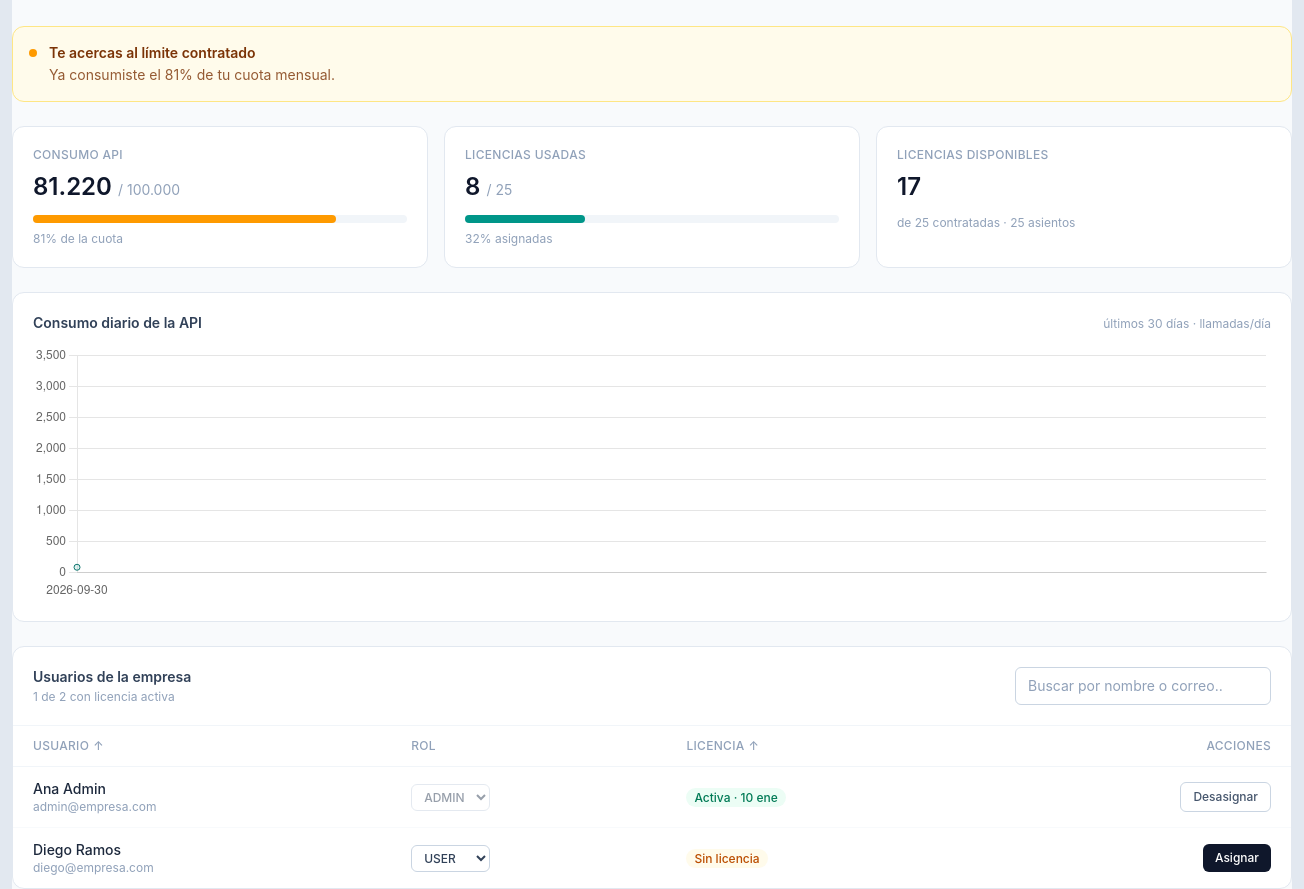
dashboard view › revokes an active license
(page scrolled)
Click the button "Desasignar" at (1226, 797), box [1180,782,1271,812]
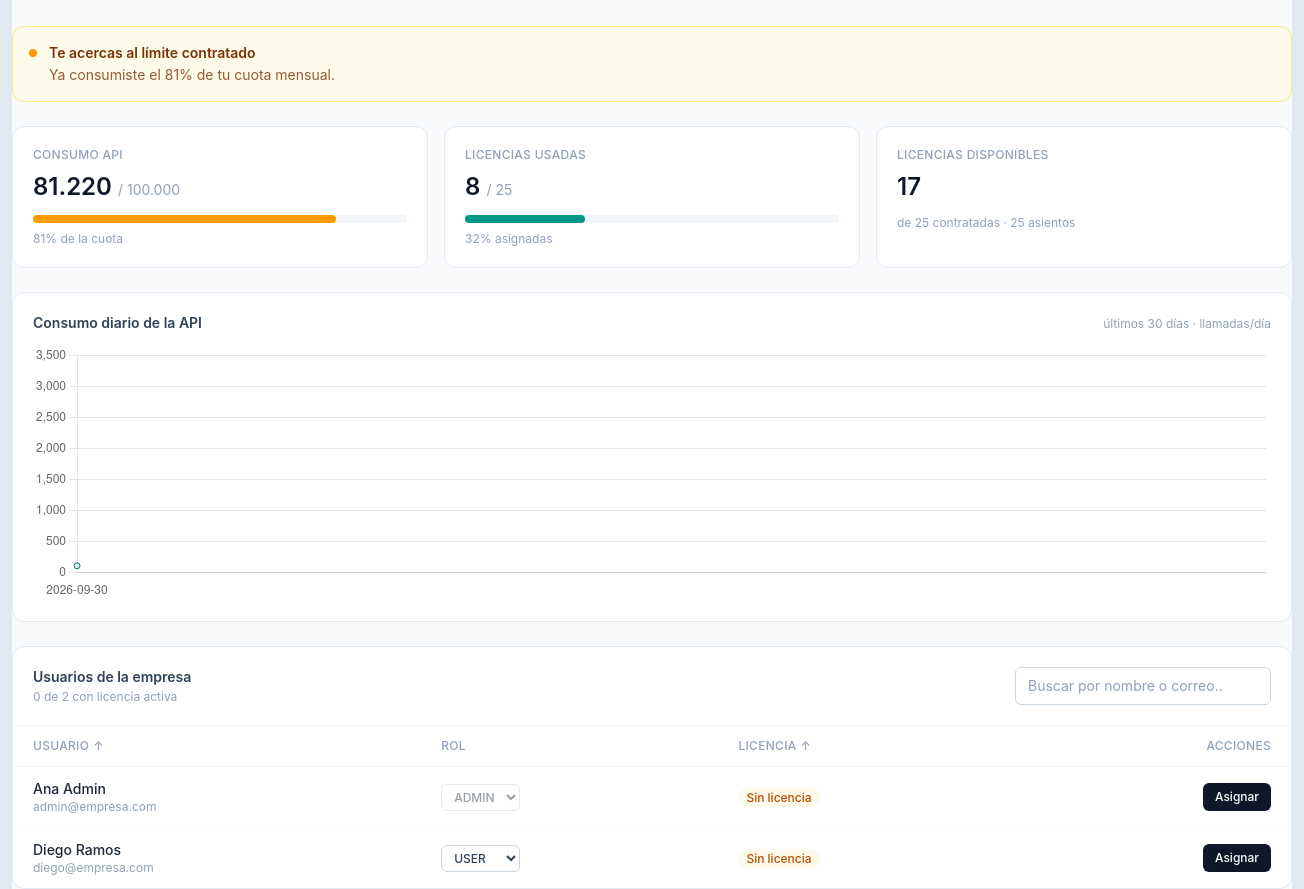
Result: the row "Ana Admin admin@empresa.com Sin licencia Asignar" is shown at [13,766,1291,828]
Result: the button "Asignar" in the row of "Ana Admin" is shown at [1203,783,1271,811]
